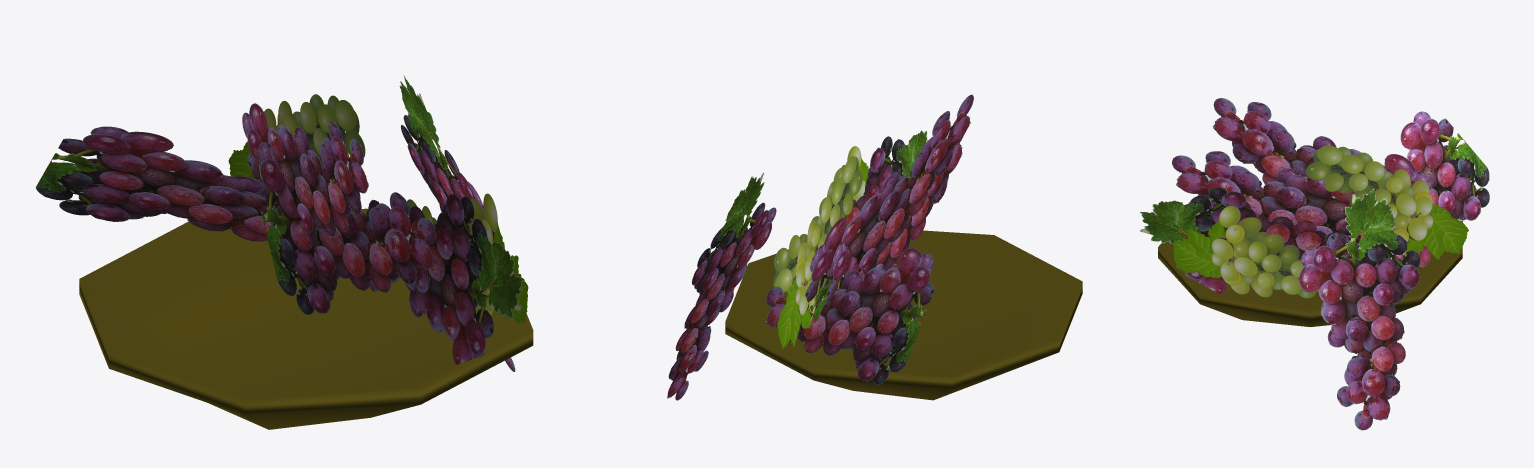
File: Maceta.fbx
3 views of the same model, side by side, from view 1: azimuth 30°, elevation 25°; view 2: azimuth 150°, elevation 25°; view 3: azimuth 270°, elevation 25° (orthographic). The views are drawn at different scales.
Visible parts, largest first — view 1: Plato Uvas, Plane.004, Plane.005, Plane; view 2: Plato Uvas, Plane.004, Plane, Plane.005; view 3: Plane.004, Plane, Plane.005, Plato Uvas.
Boxes of the visible parts, x1,y1,x2,y2 form: Plato Uvas: (79, 208, 533, 429); Plane.004: (35, 103, 523, 364); Plane.005: (228, 94, 528, 324); Plane: (399, 75, 515, 371); Plato Uvas: (725, 230, 1082, 400); Plane.004: (765, 94, 973, 384); Plane: (667, 173, 776, 400); Plane.005: (773, 146, 868, 348); Plane.004: (1140, 98, 1489, 294); Plane: (1299, 189, 1420, 430); Plane.005: (1173, 145, 1468, 298); Plato Uvas: (1158, 232, 1462, 326).
Size of the model in its own units: 381 by 418 by 444.
